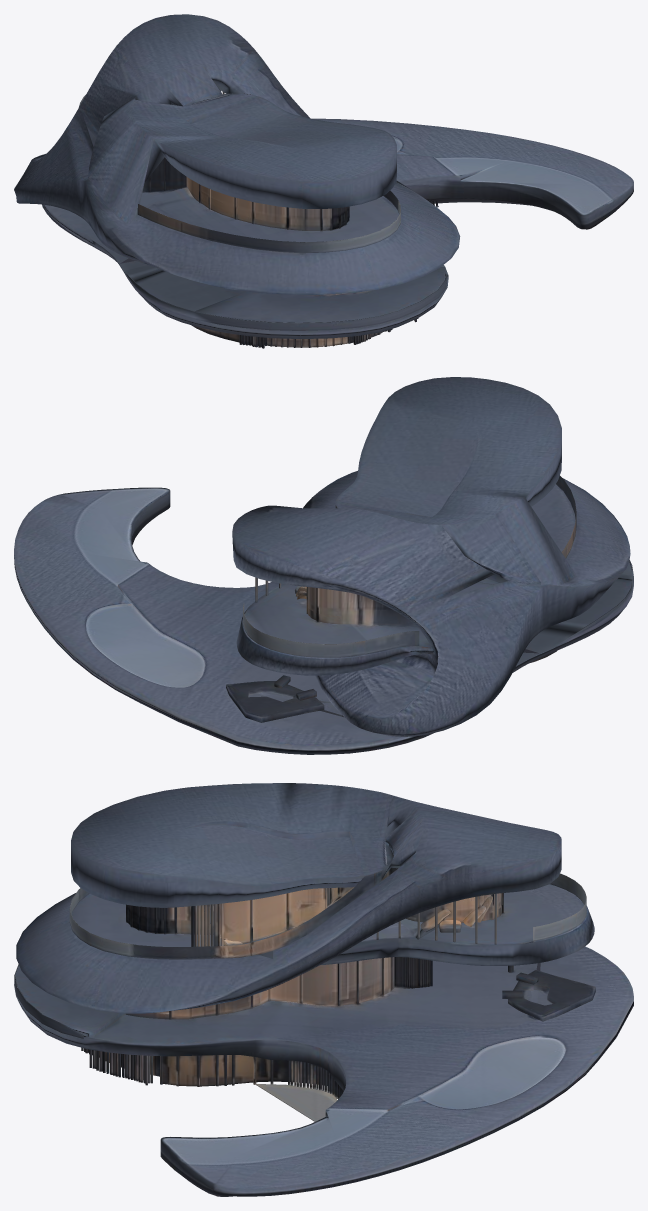
Rendered from town-spiral-house.lite.glb.
The picture shows the model from 3 angles, top to bottom: view 1: azimuth 30°, elevation 25°; view 2: azimuth 150°, elevation 25°; view 3: azimuth 270°, elevation 25°; orthographic projection. The views are drawn at different scales.
Visible parts, largest first — view 1: tripo_node_893b5a8a-35ea-4d73-a832-bd18d20fd3ce; view 2: tripo_node_893b5a8a-35ea-4d73-a832-bd18d20fd3ce; view 3: tripo_node_893b5a8a-35ea-4d73-a832-bd18d20fd3ce.
Boxes of the visible parts, <box> form: tripo_node_893b5a8a-35ea-4d73-a832-bd18d20fd3ce: <box>14,14,633,348</box>; tripo_node_893b5a8a-35ea-4d73-a832-bd18d20fd3ce: <box>14,377,633,754</box>; tripo_node_893b5a8a-35ea-4d73-a832-bd18d20fd3ce: <box>14,783,633,1196</box>.
Bounding box in the file's own units: 0.9995 × 0.3179 × 0.9097.
1 material, 1 textured.
